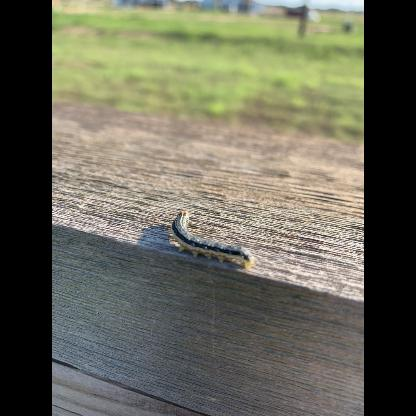Fall Armyworm Larvae: (168, 208, 256, 272)
